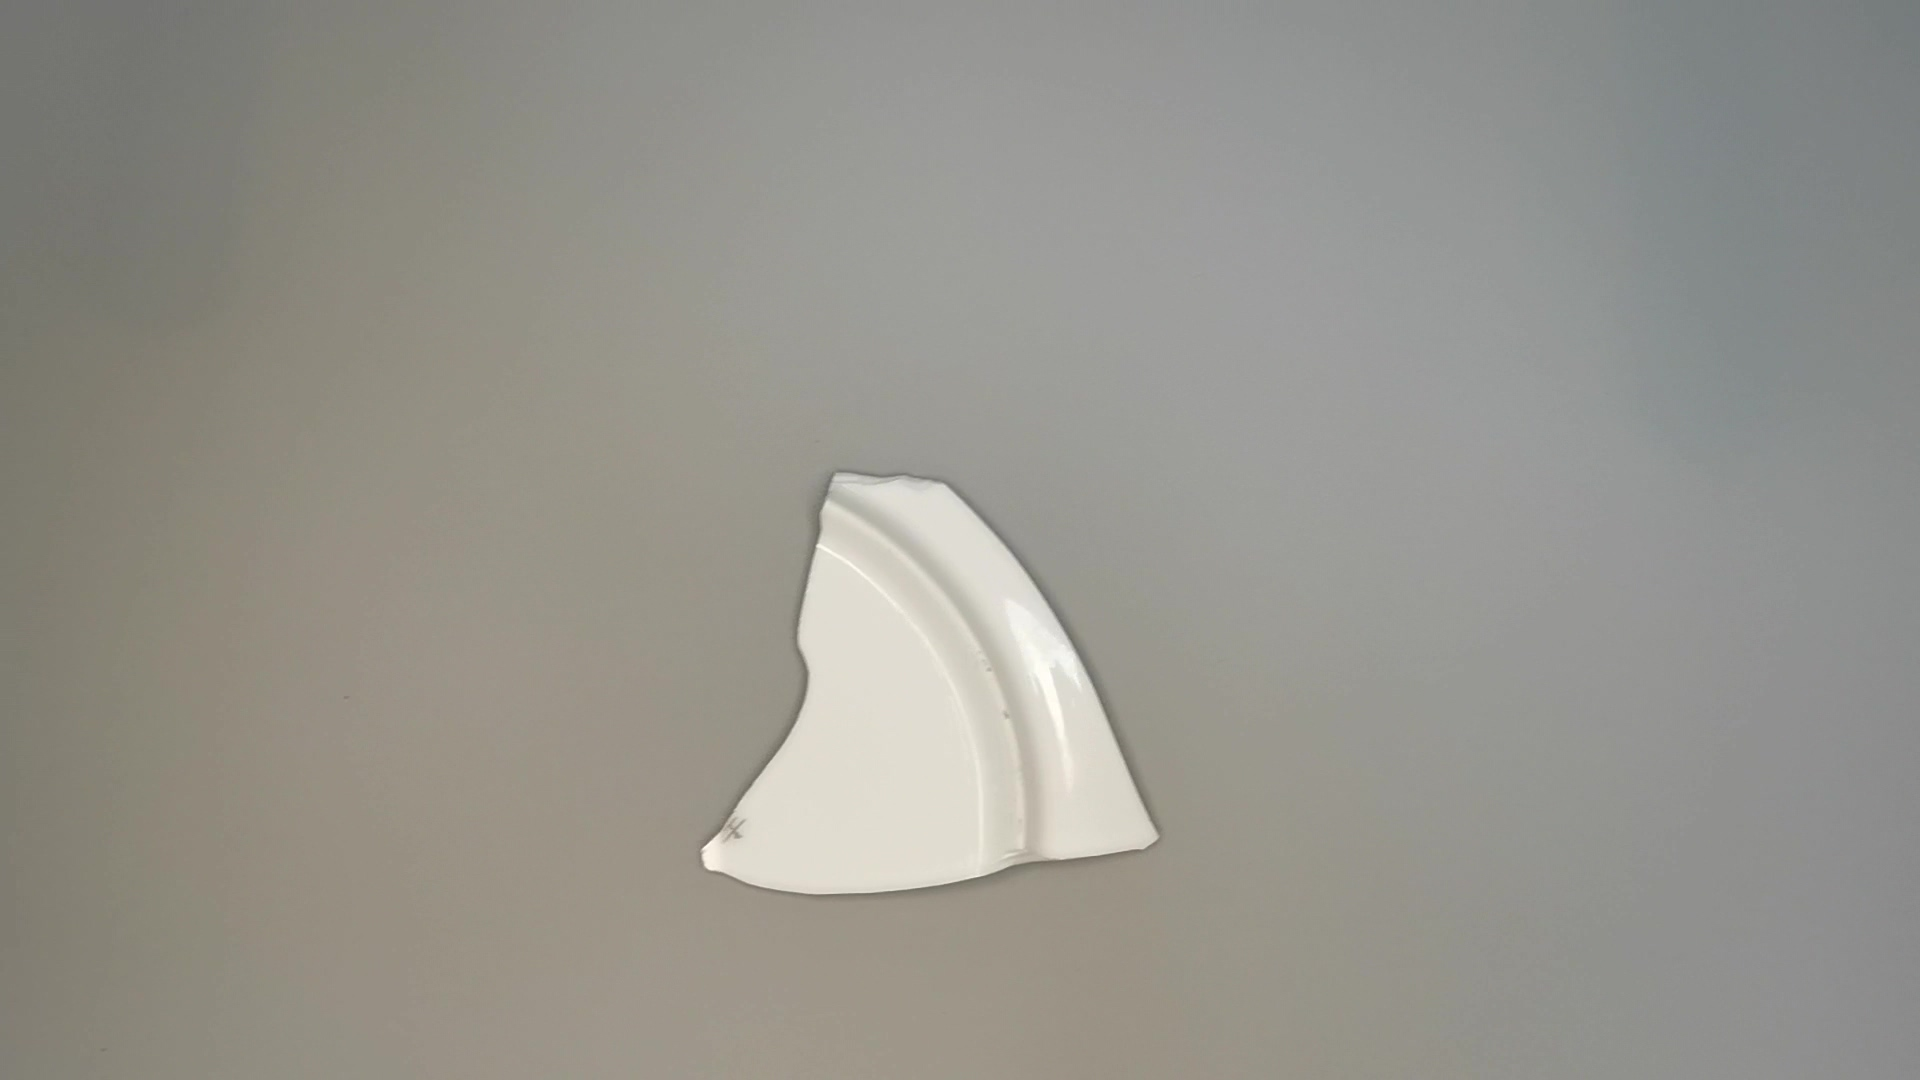ceramic: (684, 463, 1166, 895)
